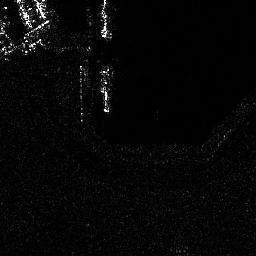ship: (97, 61, 117, 115), (96, 1, 114, 46)
